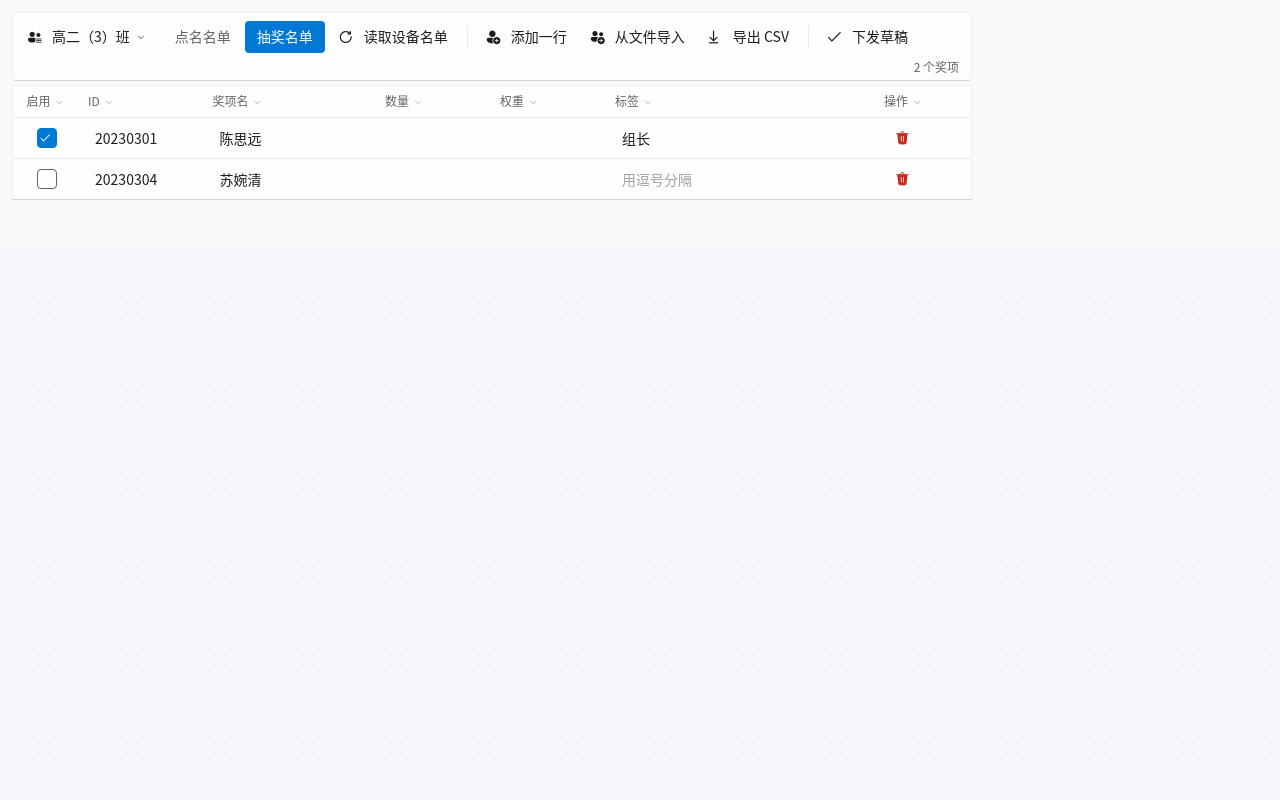
Scenario: ClientRosterPanel 添加一行对话框 › 奖品：数量 / 权重 代替性别 / 分组
Click the button with test id "roster-add".
click(527, 37)  # box [476,17,578,57]
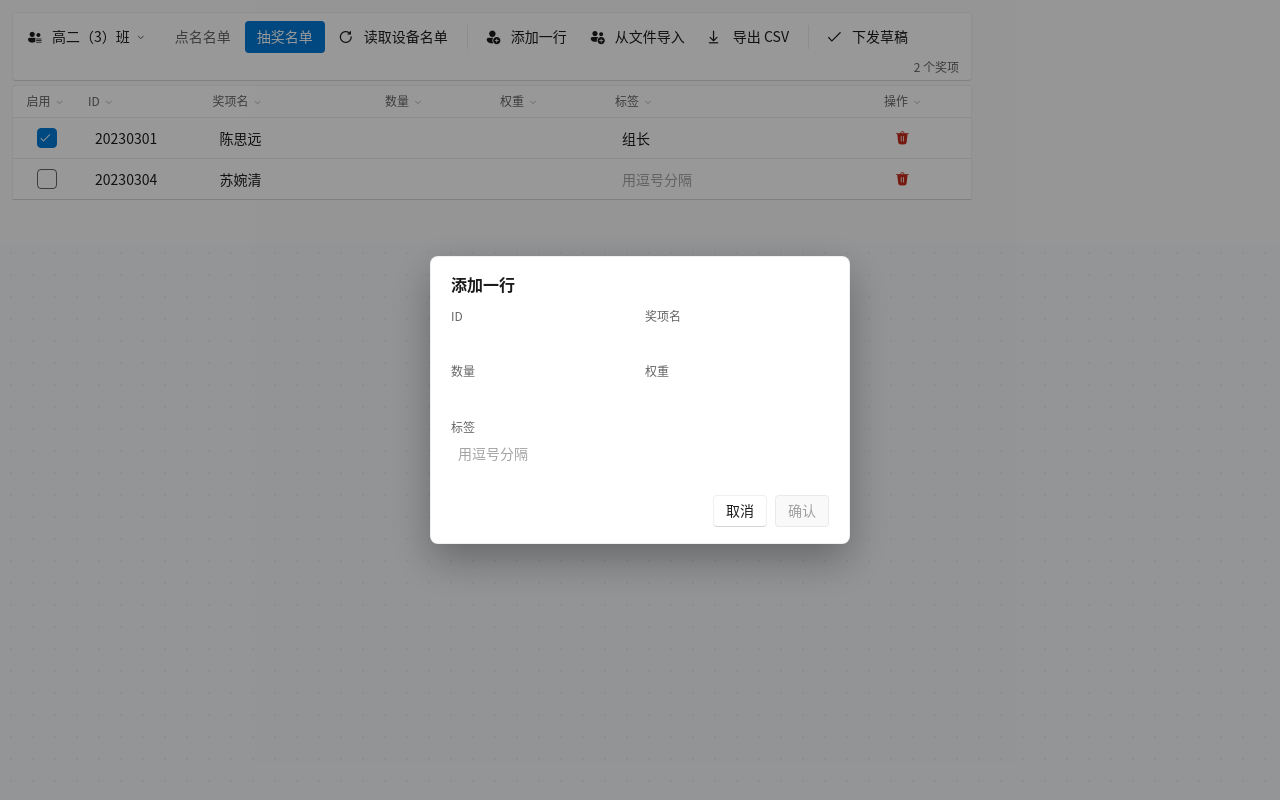
Now the elements with class "cn-field__label" read "ID", "奖项名", "数量", "权重", "标签", in this order, box [451,306,463,324]; [645,306,681,324]; [451,362,475,379]; [645,362,669,379]; [451,418,475,435]
